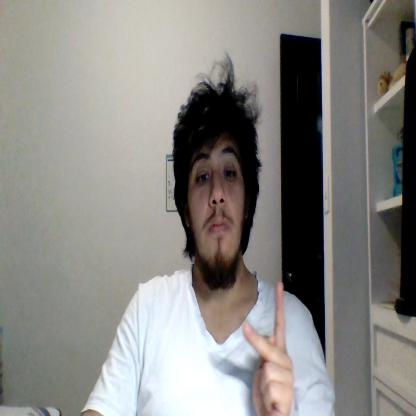P: (244, 280, 294, 416)
